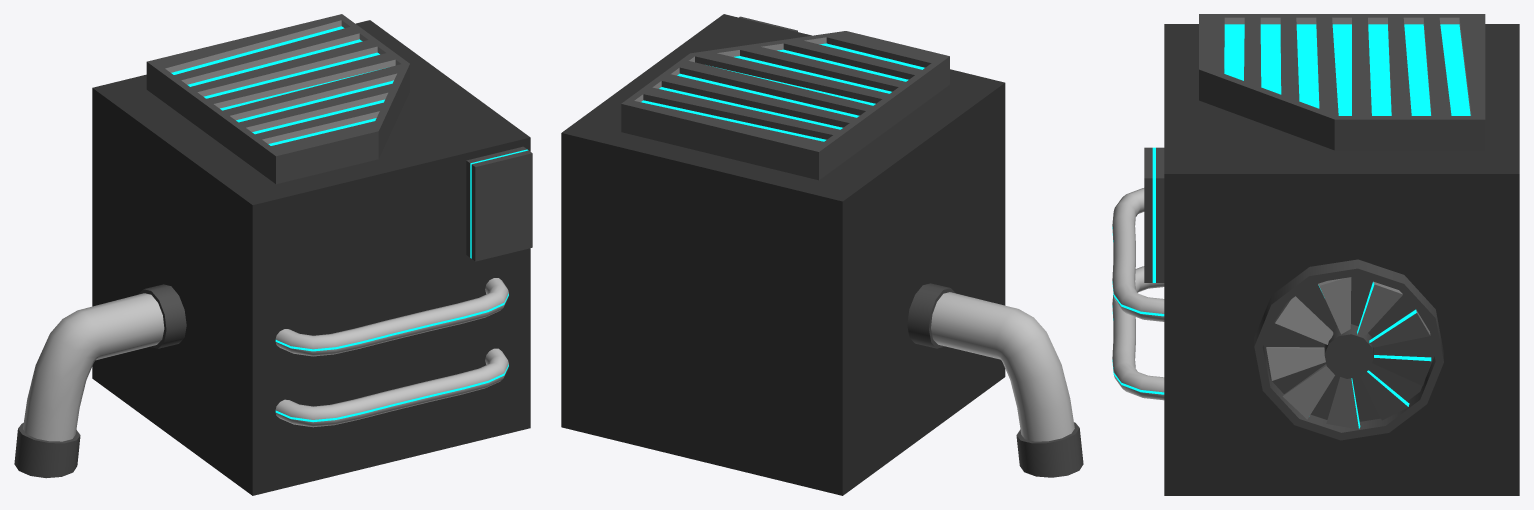
Rendered from SM_Prop_C.fbx.
The picture shows the model from 3 angles, left to right: view 1: azimuth 30°, elevation 25°; view 2: azimuth 150°, elevation 25°; view 3: azimuth 270°, elevation 25°; orthographic projection. The views are drawn at different scales.
Visible parts, largest first — view 1: SM_Prop_C; view 2: SM_Prop_C; view 3: SM_Prop_C.
Boxes of the visible parts, x1=… form: SM_Prop_C: x1=14, y1=14, x2=532, y2=495; SM_Prop_C: x1=561, y1=14, x2=1083, y2=495; SM_Prop_C: x1=1112, y1=14, x2=1519, y2=495.
Bounding box in the file's own units: 97.43 × 65.62 × 68.62.
